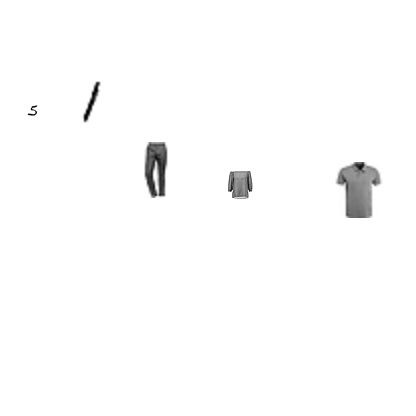1: (62, 72, 118, 128)
5: (26, 104, 40, 118)
Shirt: (226, 171, 254, 199)
T-shirt/top: (330, 162, 386, 218)
Trouser: (127, 142, 183, 198)
